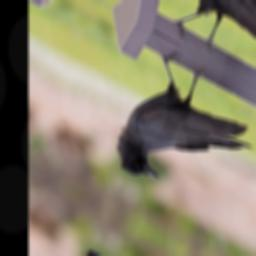Crow: (107, 40, 256, 227)
